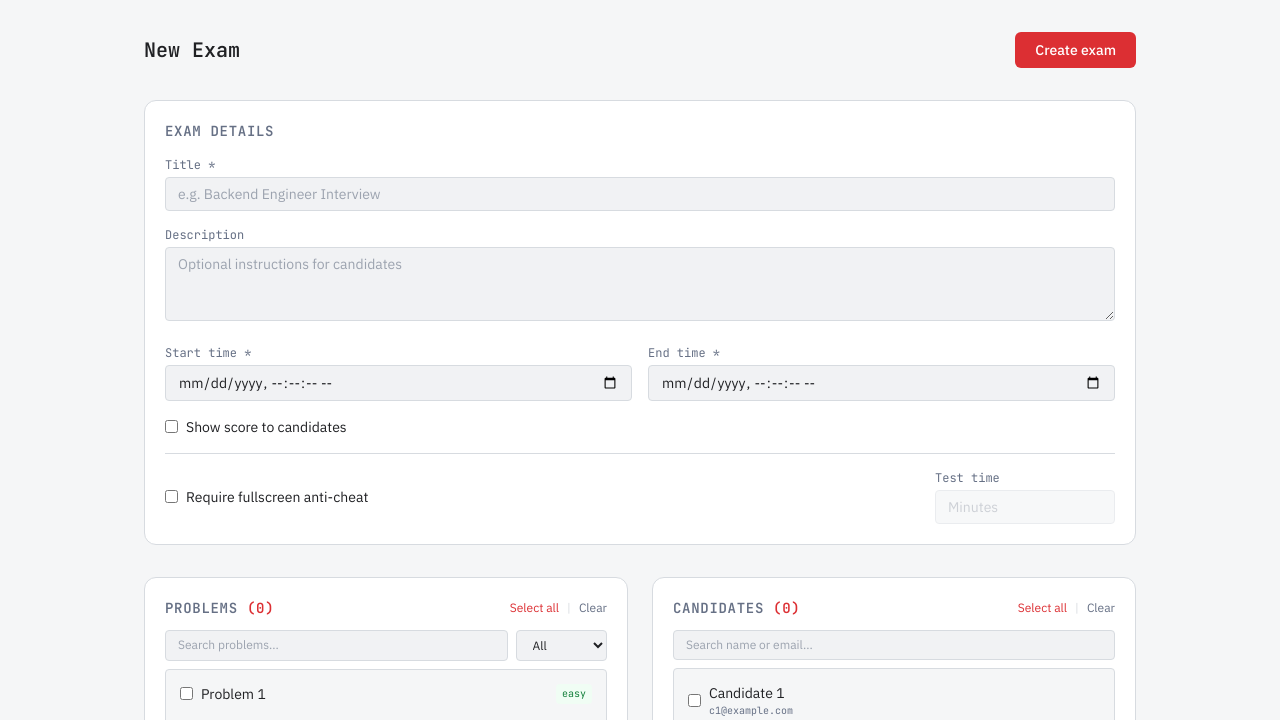
Test case: ExamManagePage - Form Interactions and Saving › validates required fields before saving
The width and height of the screenshot is (1280, 720).
Expected: the text "Problem 1" is shown, left=201, top=685, right=266, bottom=703
Click the button "Create exam" at (1076, 50), box left=1015, top=32, right=1136, bottom=68
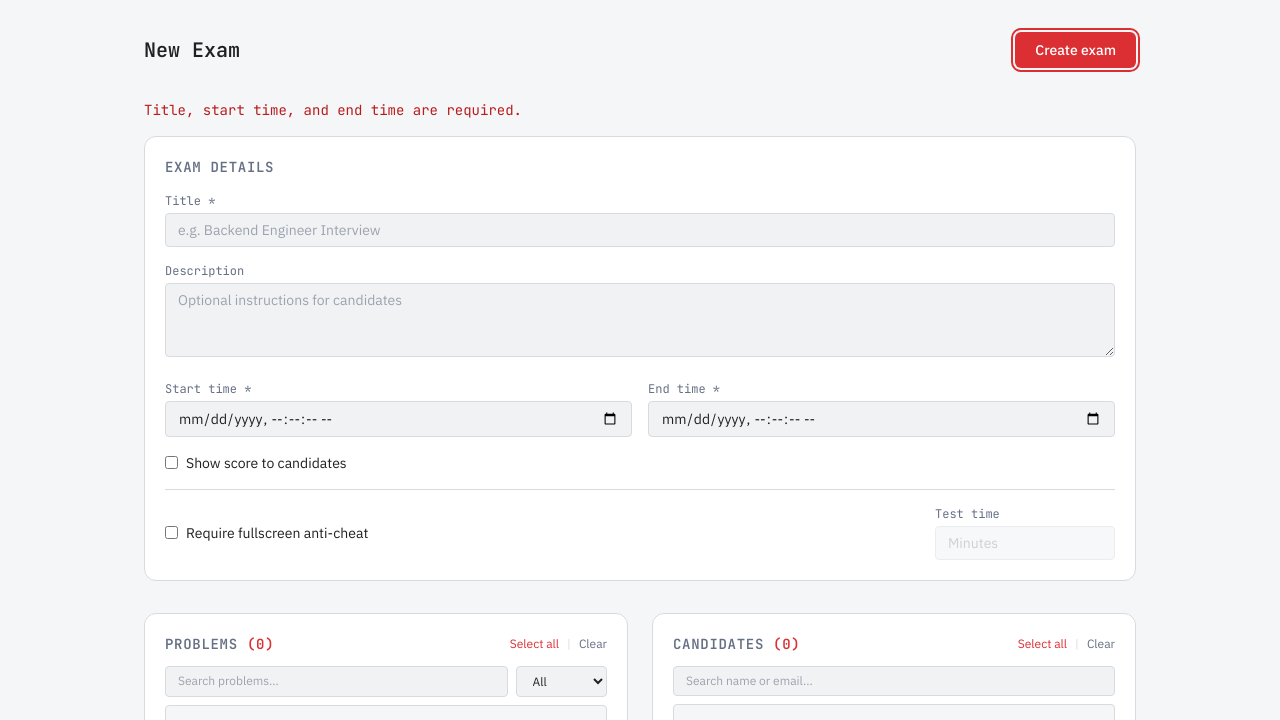
Result: the text "Title, start time, and end time are required." is shown at left=144, top=101, right=522, bottom=119
